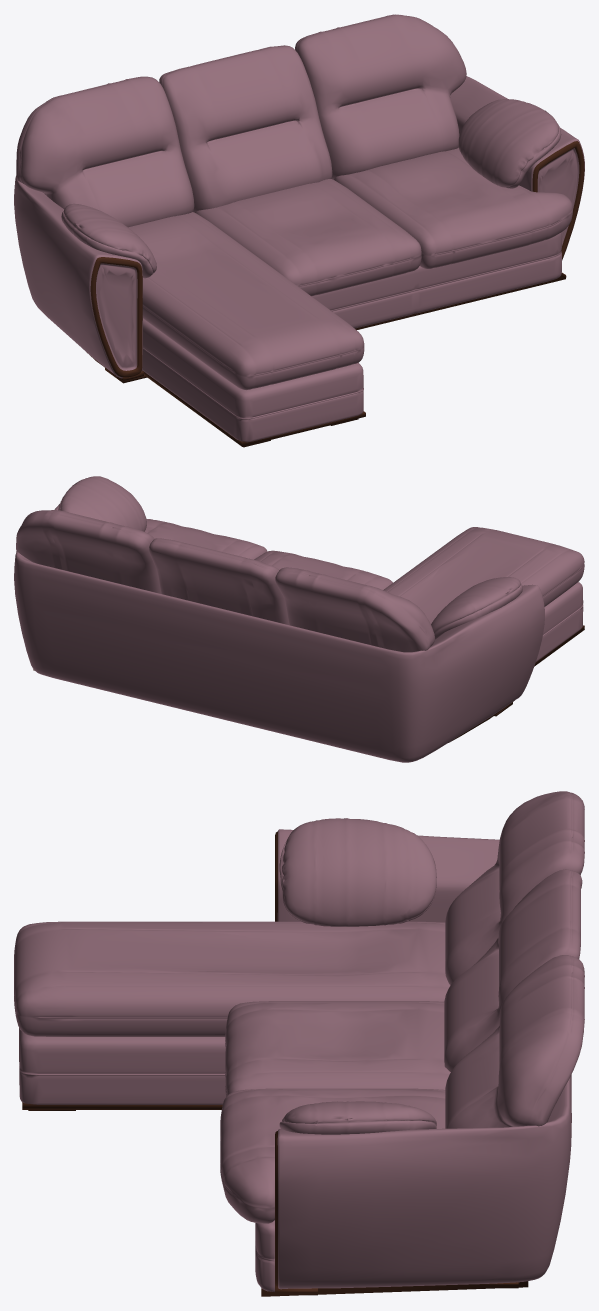
File: piar_main_apply_mod_not_compress.glb
The picture shows the model from 3 angles, top to bottom: view 1: azimuth 30°, elevation 25°; view 2: azimuth 150°, elevation 25°; view 3: azimuth 270°, elevation 25°; orthographic projection. The views are drawn at different scales.
Parts seen in each view (by area): view 1: Plane005; view 2: Plane005; view 3: Plane005.
Boxes of the visible parts, bbox=[...] form: Plane005: bbox=[14, 14, 584, 447]; Plane005: bbox=[14, 476, 584, 762]; Plane005: bbox=[14, 791, 584, 1296].
Bounding box in the file's own units: 3.26 × 1.23 × 2.48.
